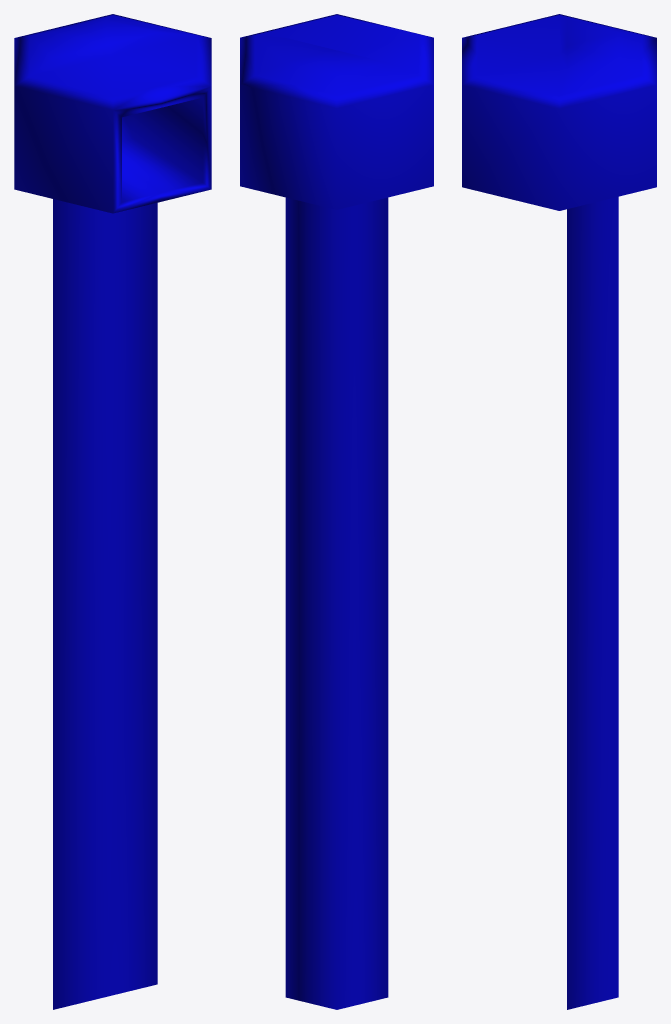
File: mdl_Corredor_Torre_piso.fbx
The picture shows the model from 3 angles, left to right: view 1: azimuth 30°, elevation 25°; view 2: azimuth 150°, elevation 25°; view 3: azimuth 270°, elevation 25°; orthographic projection.
Visible parts, largest first — view 1: mdl_Corredor_Torre_piso; view 2: mdl_Corredor_Torre_piso; view 3: mdl_Corredor_Torre_piso.
Part boxes in pixels (x1,y1,x2,y2): mdl_Corredor_Torre_piso: (14, 14, 211, 1009); mdl_Corredor_Torre_piso: (240, 14, 433, 1009); mdl_Corredor_Torre_piso: (462, 14, 656, 1009).
Size of the model in its own units: 4 by 18.43 by 3.46.
